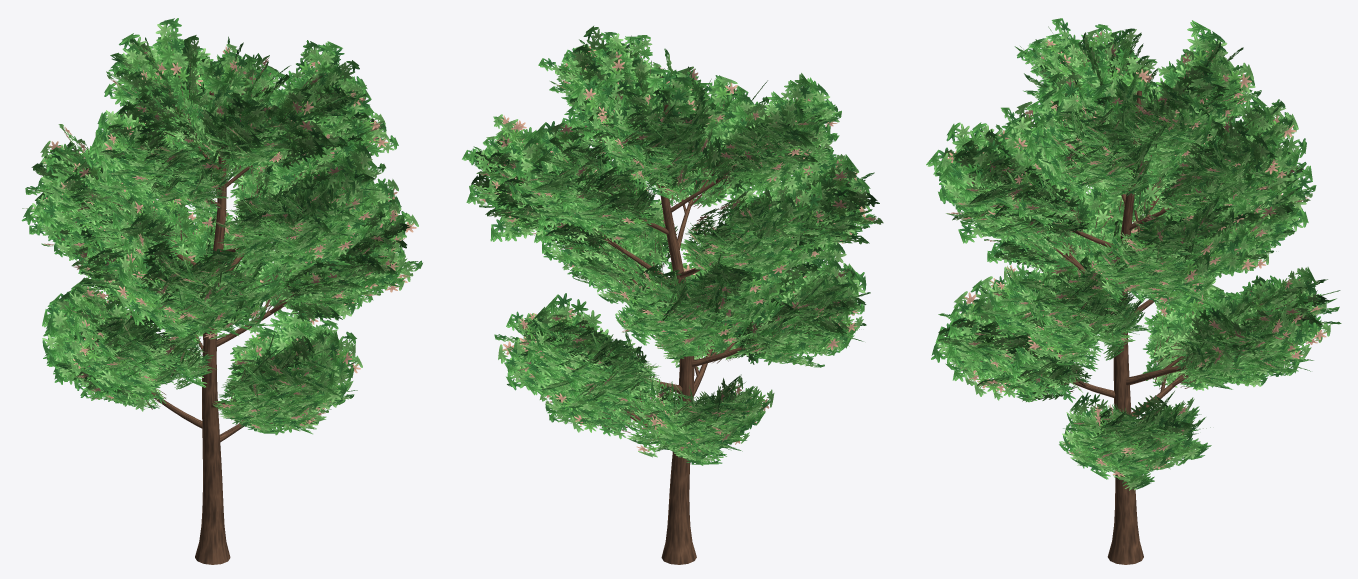
Rendered from albero_b.glb.
The picture shows the model from 3 angles, left to right: view 1: azimuth 30°, elevation 25°; view 2: azimuth 150°, elevation 25°; view 3: azimuth 270°, elevation 25°; orthographic projection. The views are drawn at different scales.
Parts seen in each view (by area): view 1: foglie, corteccia; view 2: foglie, corteccia; view 3: foglie, corteccia.
Part boxes in pixels (x1,y1,x2,y2): foglie: (21, 18, 422, 435); corteccia: (151, 91, 300, 564); foglie: (462, 26, 883, 465); corteccia: (602, 104, 753, 564); foglie: (926, 18, 1341, 490); corteccia: (1051, 90, 1191, 564).
Size of the model in its own units: 12.33 by 16.02 by 11.93.
Materials: 2 (2 with a texture image).
